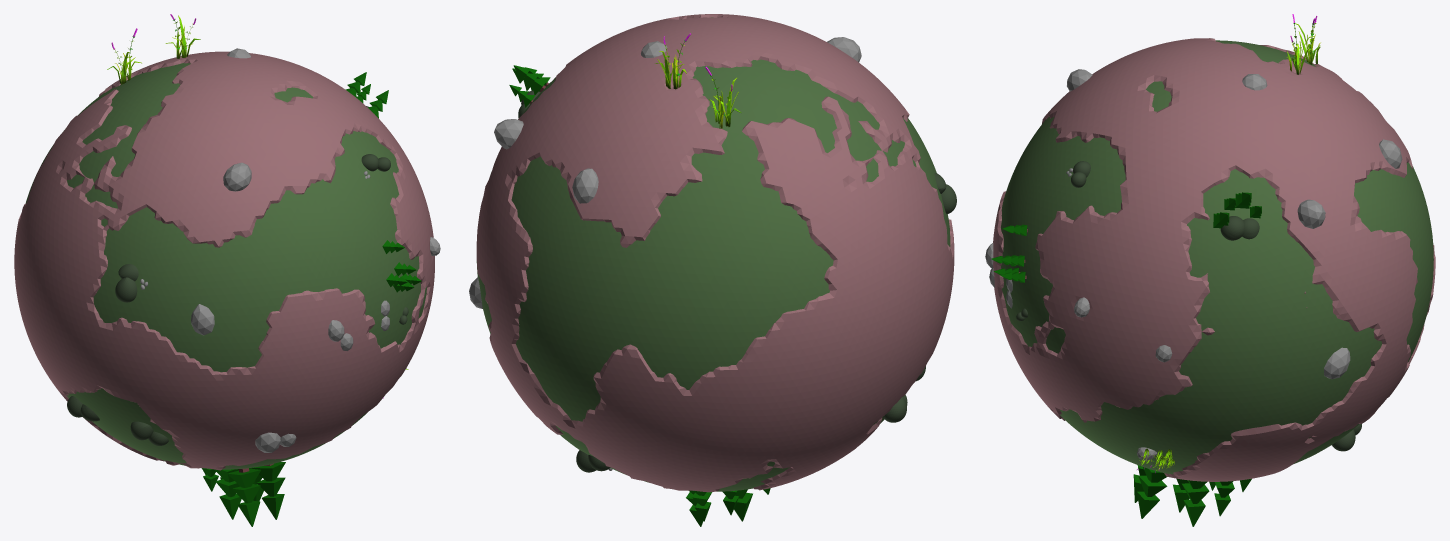
Rendered from new-forest-planet (2).fbx.
3 renders of one model, left to right at view 1: azimuth 30°, elevation 25°; view 2: azimuth 150°, elevation 25°; view 3: azimuth 270°, elevation 25°, orthographic. The views are drawn at different scales.
Visible parts, largest first — view 1: Planet, Pine-Tree-005, Pine-Tree-005.002, Pine-Tree-005.003, Rock.001, Rock.008; view 2: Planet, Rock.009, Rock.010; view 3: Planet, Pine-Tree-005.002, Pine-Tree-005.001, Rock.010, Rock.002.
Part boxes in pixels (x1,y1,x2,y2): Planet: (14, 51, 434, 470); Pine-Tree-005: (227, 468, 260, 526); Pine-Tree-005.002: (252, 462, 285, 519); Pine-Tree-005.003: (215, 469, 241, 519); Rock.001: (223, 162, 251, 191); Rock.008: (191, 304, 214, 335); Planet: (476, 14, 954, 492); Rock.009: (572, 168, 598, 203); Rock.010: (494, 119, 523, 149); Planet: (993, 38, 1435, 481); Pine-Tree-005.002: (1137, 467, 1167, 518); Pine-Tree-005.001: (1182, 480, 1209, 526); Rock.010: (1297, 199, 1325, 228); Rock.002: (1324, 347, 1350, 379).
Bounding box in the file's own units: 303 × 373 × 308.
